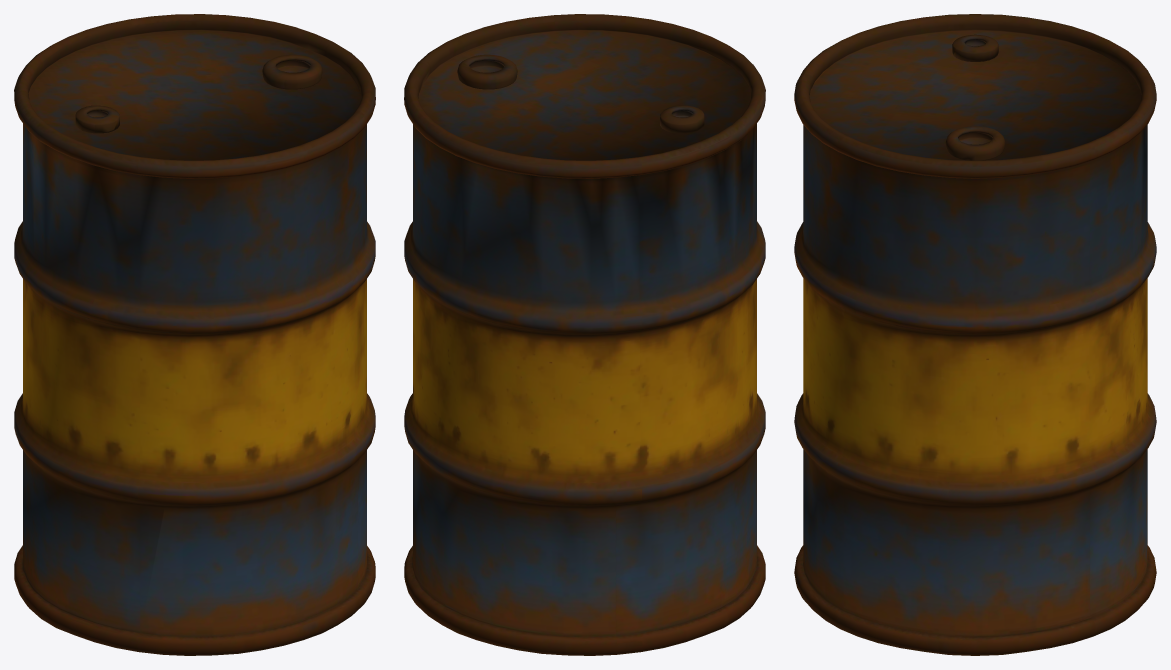
Rendered from Outdoor__old_oil_barrel_a6459ce8_v4.cluster.glb.
3 views of the same model, side by side, from view 1: azimuth 30°, elevation 25°; view 2: azimuth 150°, elevation 25°; view 3: azimuth 270°, elevation 25° (orthographic).
Parts seen in each view (by area): view 1: material; view 2: material; view 3: material.
Part boxes in pixels (box(x1,y1,x2,y2)): material: box(14, 14, 375, 655); material: box(404, 14, 765, 655); material: box(794, 14, 1156, 655).
Size of the model in its own units: 1.27 by 1.9 by 1.26.
Materials: 1 (1 with a texture image).
